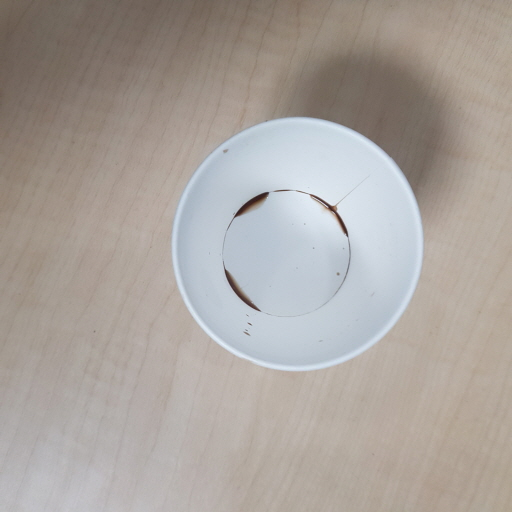Paper_1: (172, 115, 421, 372)
